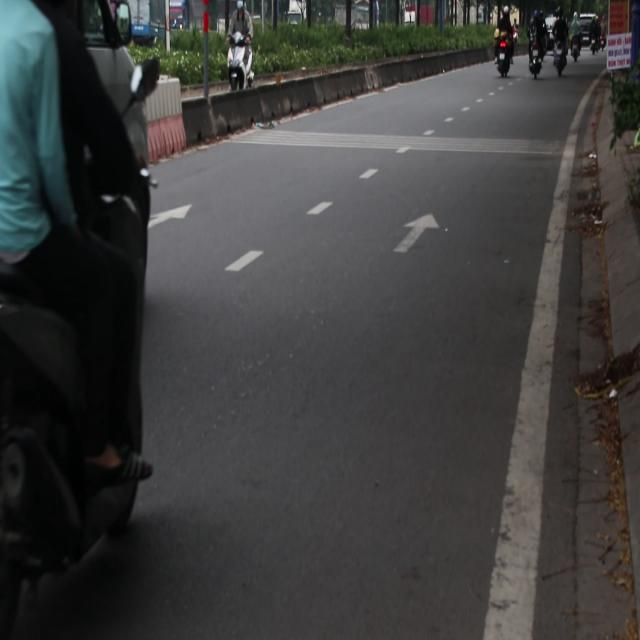car: (540, 12, 566, 48), (574, 9, 592, 48)
motorbike: (0, 170, 175, 610), (228, 36, 260, 105), (494, 28, 515, 78), (554, 32, 570, 86), (528, 30, 544, 80), (569, 30, 578, 63)
truck: (112, 0, 162, 47)
